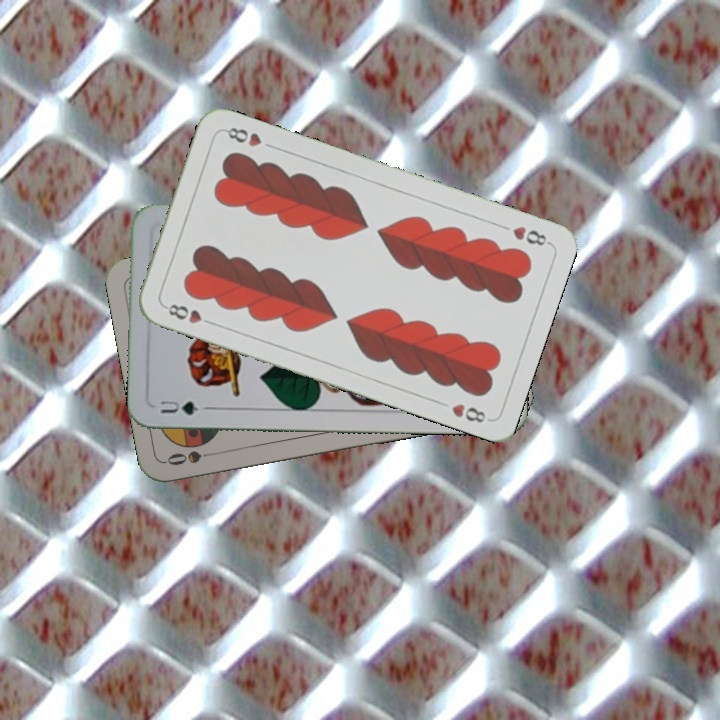GU: (154, 396, 201, 417)
H8: (160, 299, 217, 328), (508, 222, 552, 249)
SO: (162, 446, 222, 468)
